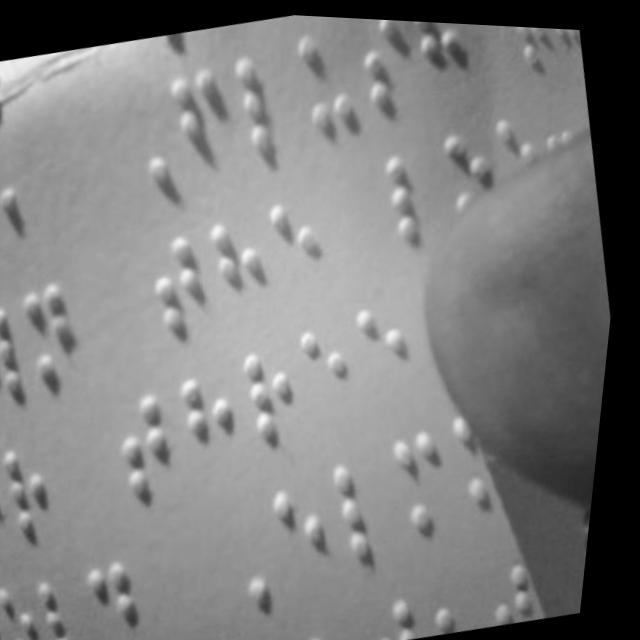braiile: (14, 266, 108, 401), (200, 194, 291, 328), (173, 358, 264, 492), (0, 419, 91, 551), (256, 180, 346, 312), (281, 12, 374, 138), (113, 380, 205, 507), (0, 122, 79, 267), (328, 442, 421, 565), (390, 416, 479, 542), (232, 335, 324, 456), (158, 55, 246, 181), (267, 464, 355, 590), (141, 216, 228, 342), (374, 130, 465, 247), (347, 288, 431, 411), (223, 41, 309, 159), (293, 309, 375, 432), (85, 537, 179, 640), (341, 14, 428, 119), (399, 17, 486, 105), (38, 553, 119, 640), (0, 551, 79, 640), (0, 278, 50, 411), (0, 161, 22, 277)
